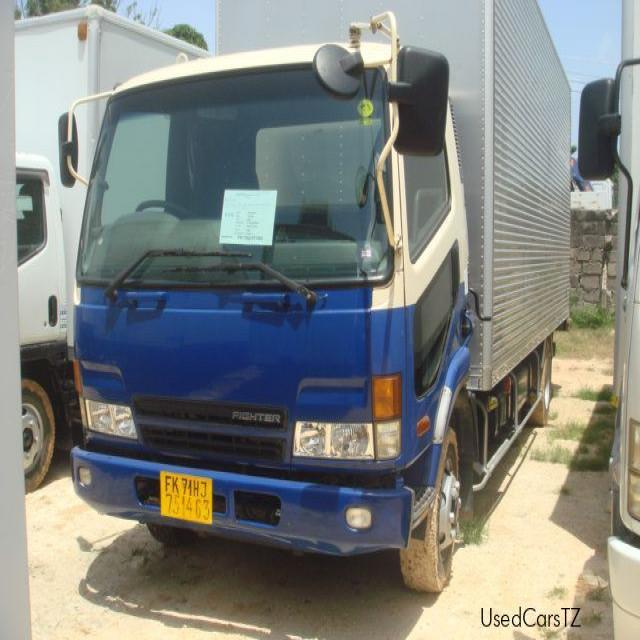truck: (58, 0, 572, 592)
